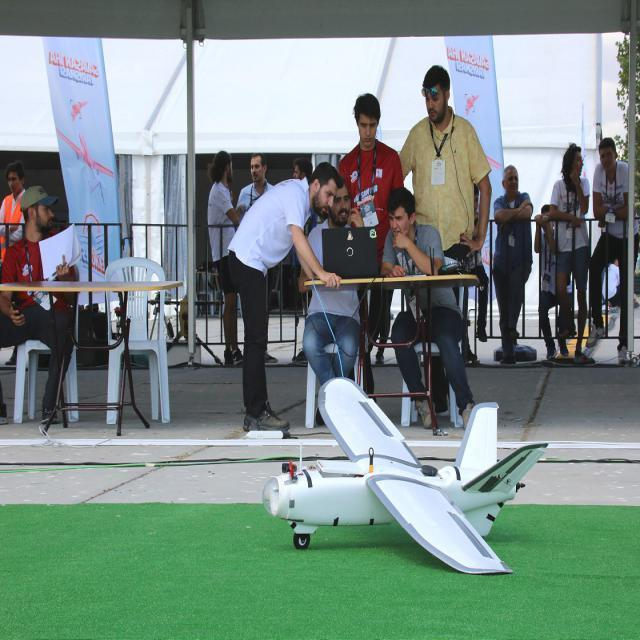UAV: (283, 368, 534, 560)
